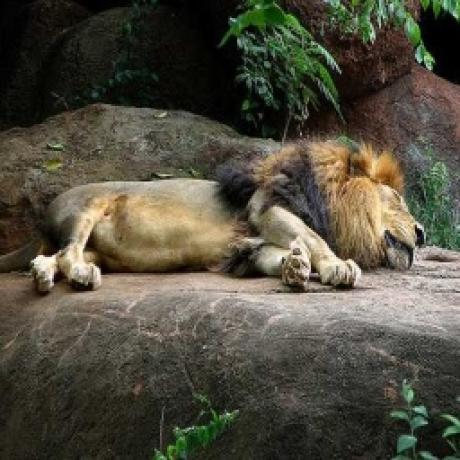Lion: (27, 138, 433, 293)
